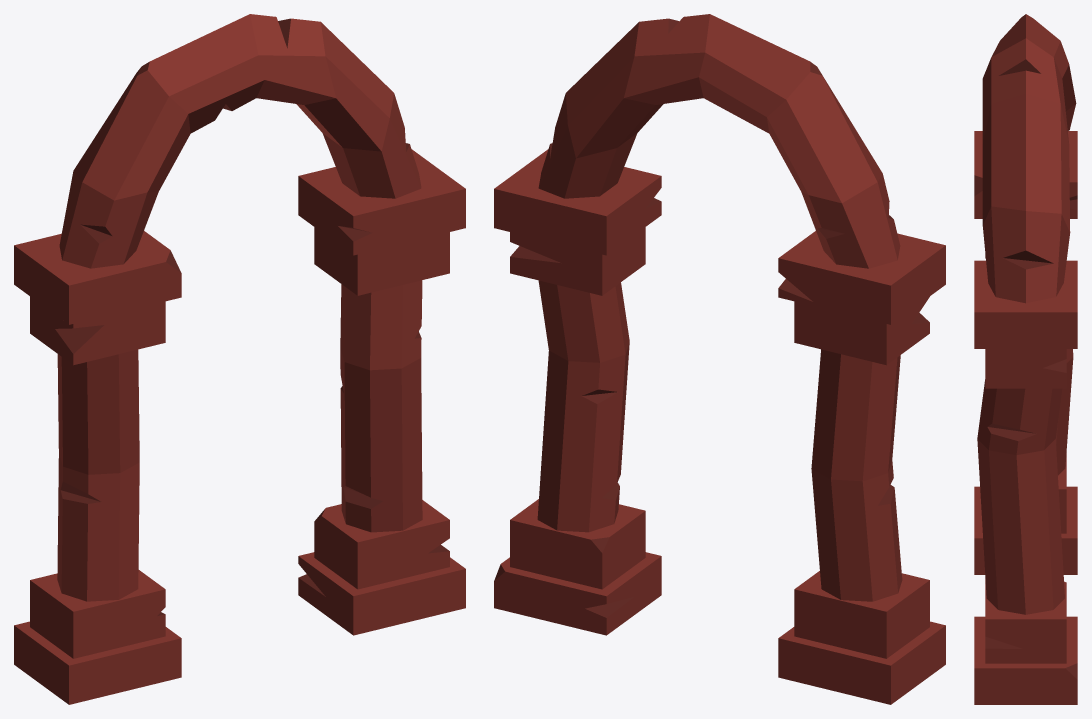
The model's file is Archway_3_Red.fbx.
The picture shows the model from 3 angles, left to right: view 1: azimuth 30°, elevation 25°; view 2: azimuth 150°, elevation 25°; view 3: azimuth 270°, elevation 25°; orthographic projection. The views are drawn at different scales.
Parts seen in each view (by area): view 1: Archway_3_Red_Part_1, Archway_3_Red_Part_2; view 2: Archway_3_Red_Part_1, Archway_3_Red_Part_2; view 3: Archway_3_Red_Part_1, Archway_3_Red_Part_2.
Boxes of the visible parts, x1,y1,x2,y2 form: Archway_3_Red_Part_1: [14, 14, 465, 704]; Archway_3_Red_Part_2: [55, 18, 449, 615]; Archway_3_Red_Part_1: [494, 14, 945, 704]; Archway_3_Red_Part_2: [494, 18, 929, 617]; Archway_3_Red_Part_1: [974, 14, 1077, 704]; Archway_3_Red_Part_2: [974, 59, 1077, 679].
Size of the model in its own units: 416 by 621 by 100.
